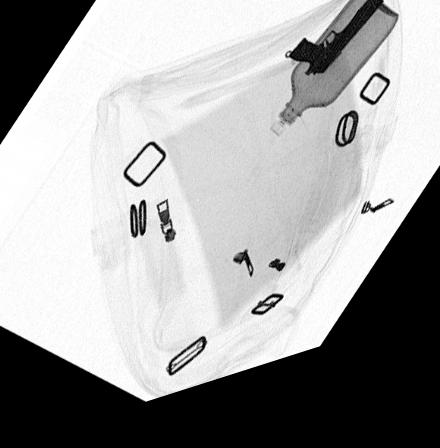Gun: (287, 14, 386, 95)
